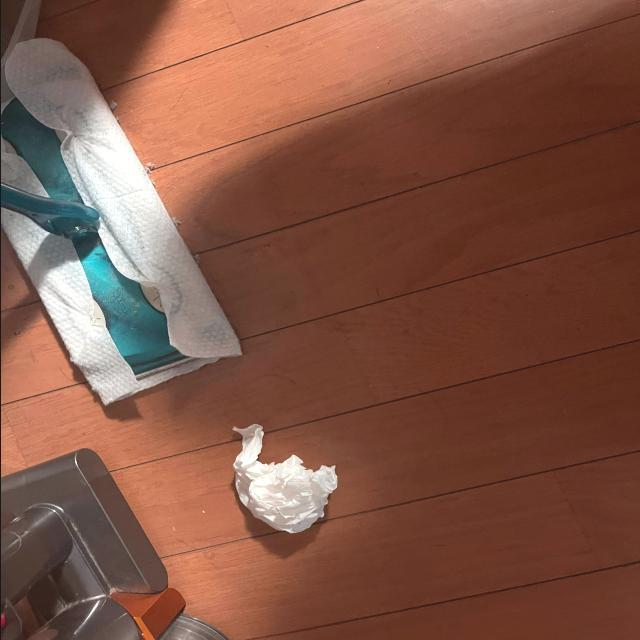Paper: (228, 417, 352, 558)
